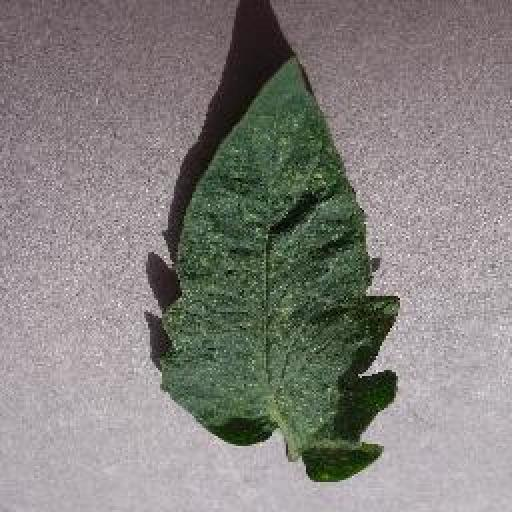Spider Mites: (156, 53, 400, 484)
